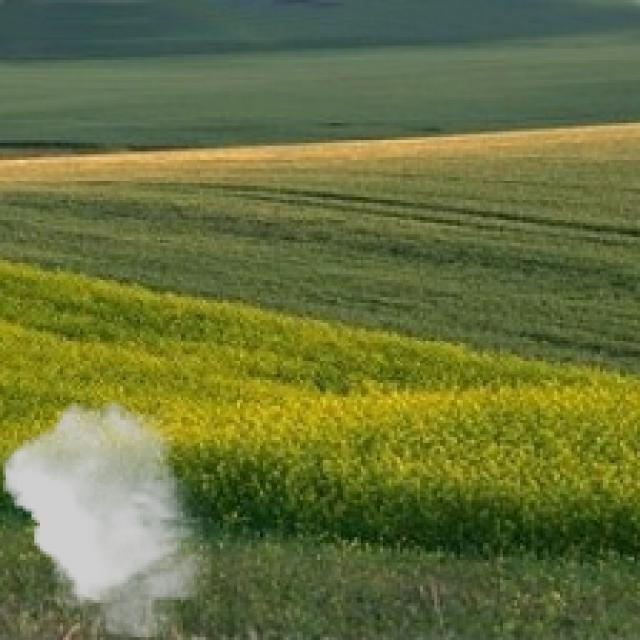Smoke: (2, 400, 212, 637)
